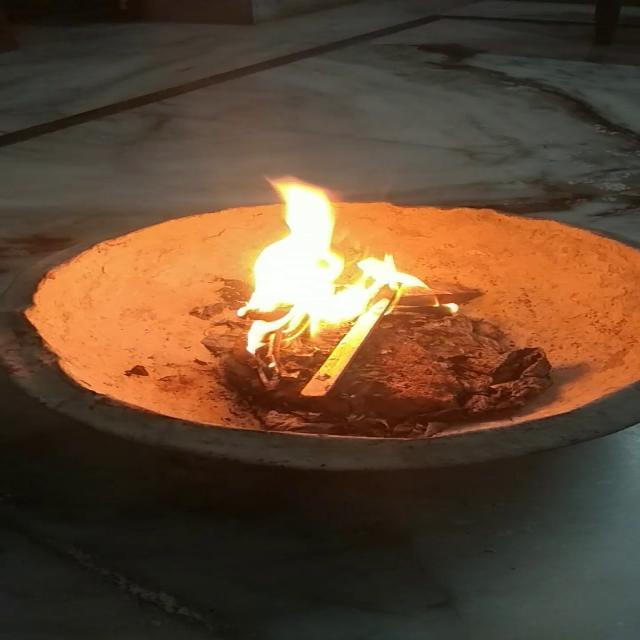Fire: (233, 181, 423, 344)
